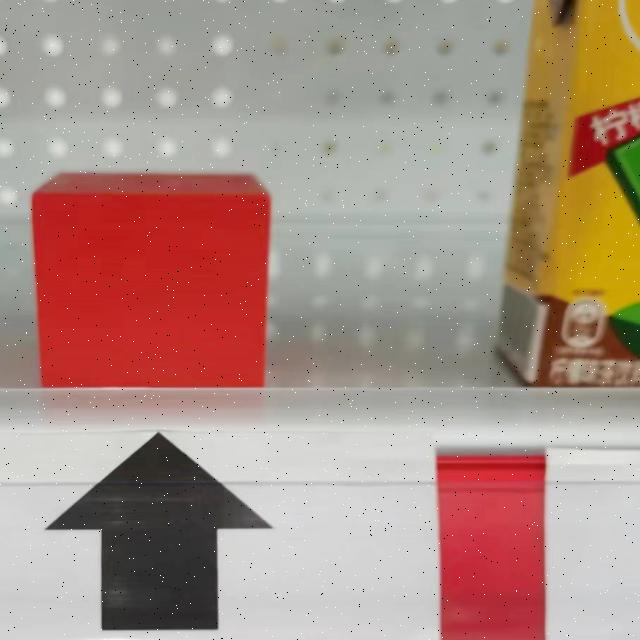red_block: (40, 169, 268, 390)
